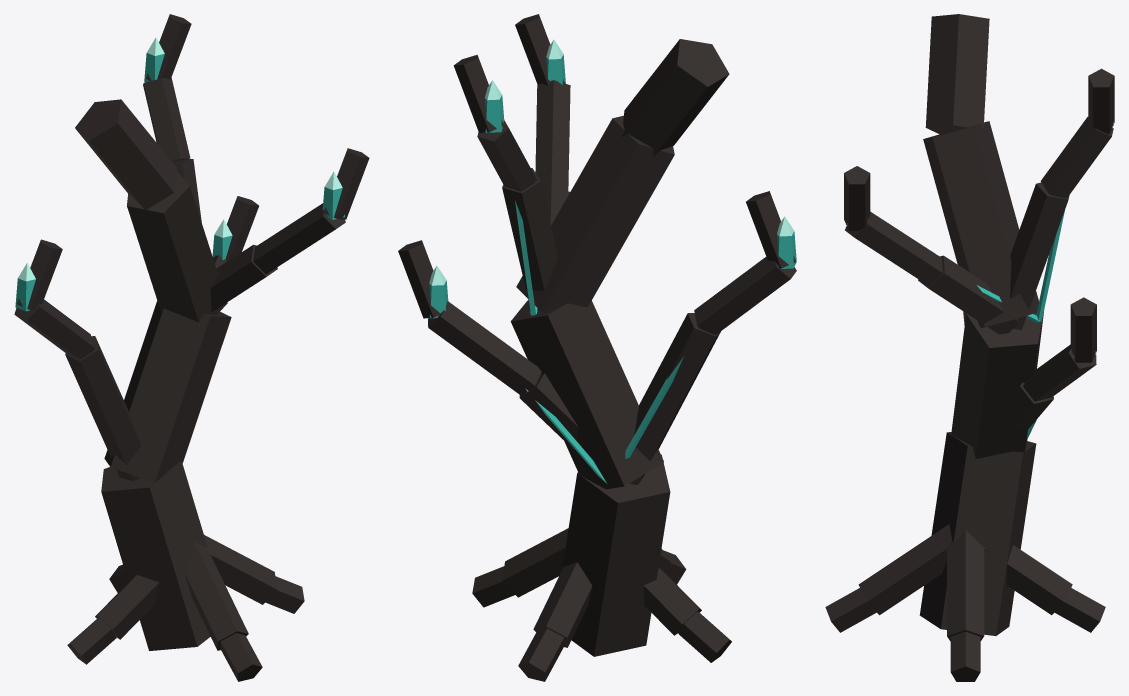
Rendered from AbyssTree_B.fbx.
3 views of the same model, side by side, from view 1: azimuth 30°, elevation 25°; view 2: azimuth 150°, elevation 25°; view 3: azimuth 270°, elevation 25° (orthographic). The views are drawn at different scales.
Visible parts, largest first — view 1: AbyssTree_B; view 2: AbyssTree_B; view 3: AbyssTree_B.
Part boxes in pixels (box(x1,y1,x2,y2)): AbyssTree_B: box(14, 14, 369, 681); AbyssTree_B: box(398, 14, 796, 681); AbyssTree_B: box(825, 14, 1114, 681).
Size of the model in its own units: 1.48 by 2.66 by 1.18.
1 material, 1 textured.
